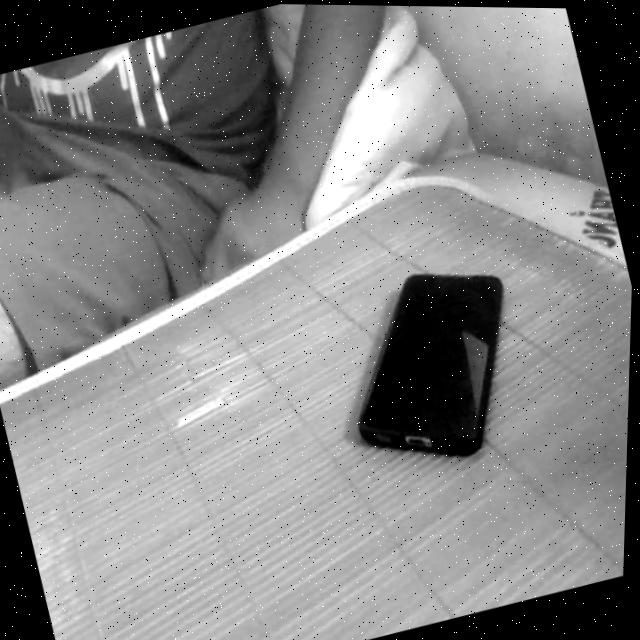phone: (301, 233, 565, 502)
